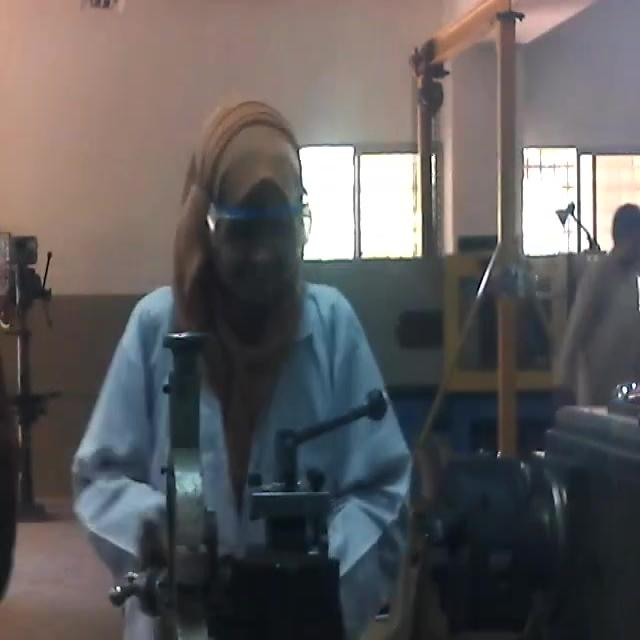googles: (198, 183, 316, 262)
labcoat: (68, 250, 418, 640)
